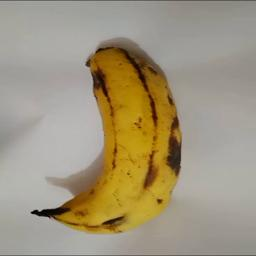Banana Semifresh: (46, 45, 183, 235)
